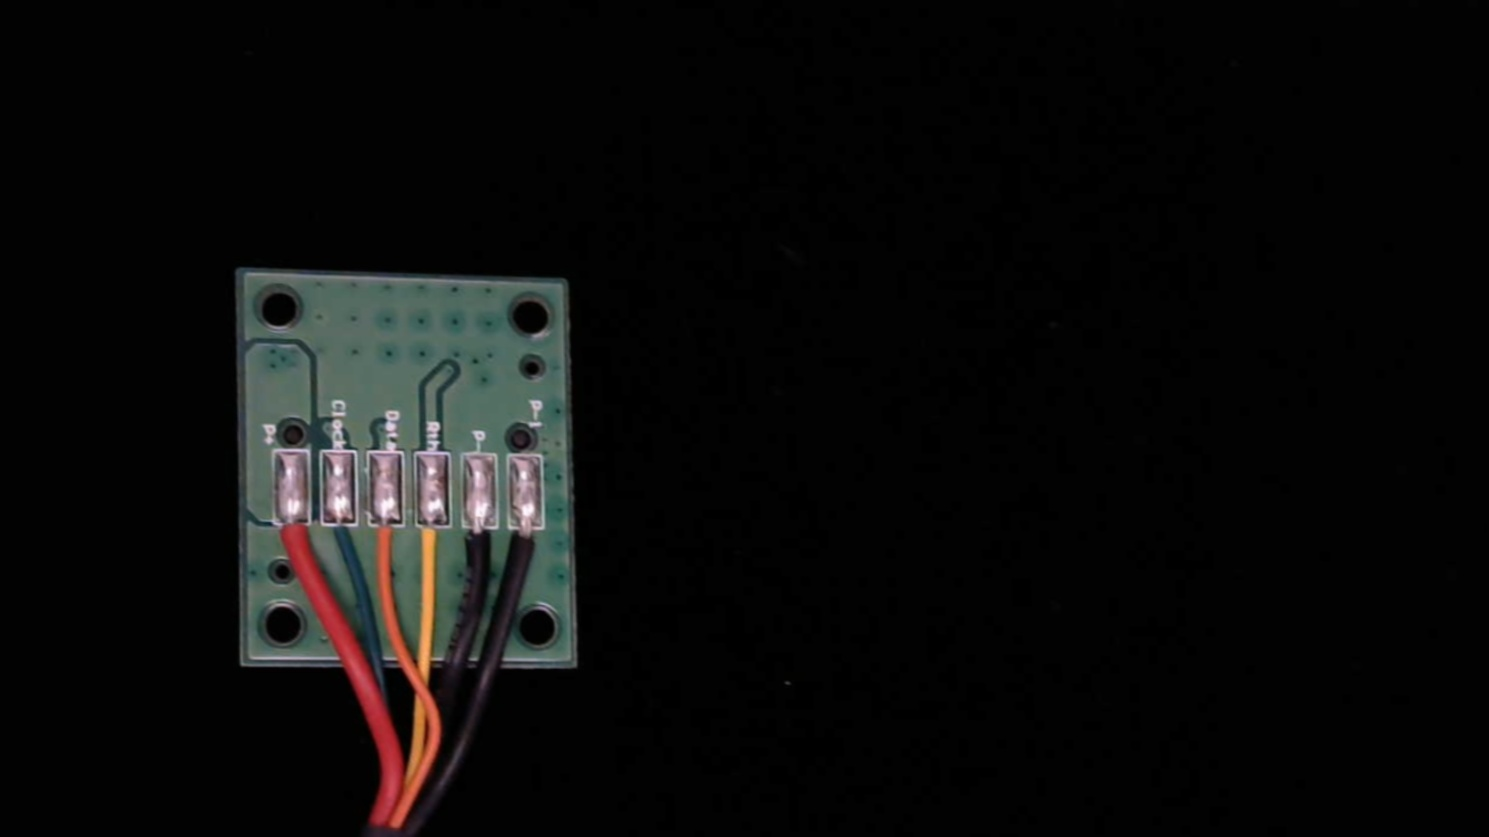Black: (459, 509, 499, 587)
Black1: (508, 506, 550, 586)
Green: (320, 500, 360, 574)
Orange: (365, 503, 407, 588)
Red: (272, 500, 313, 569)
Yellow: (412, 504, 456, 592)
